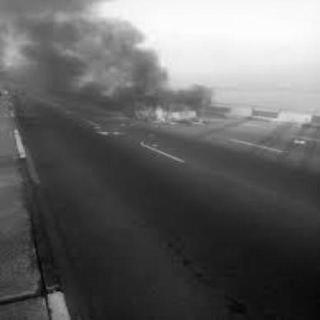Fire: (127, 91, 211, 128)
Smoke: (9, 6, 163, 104)
